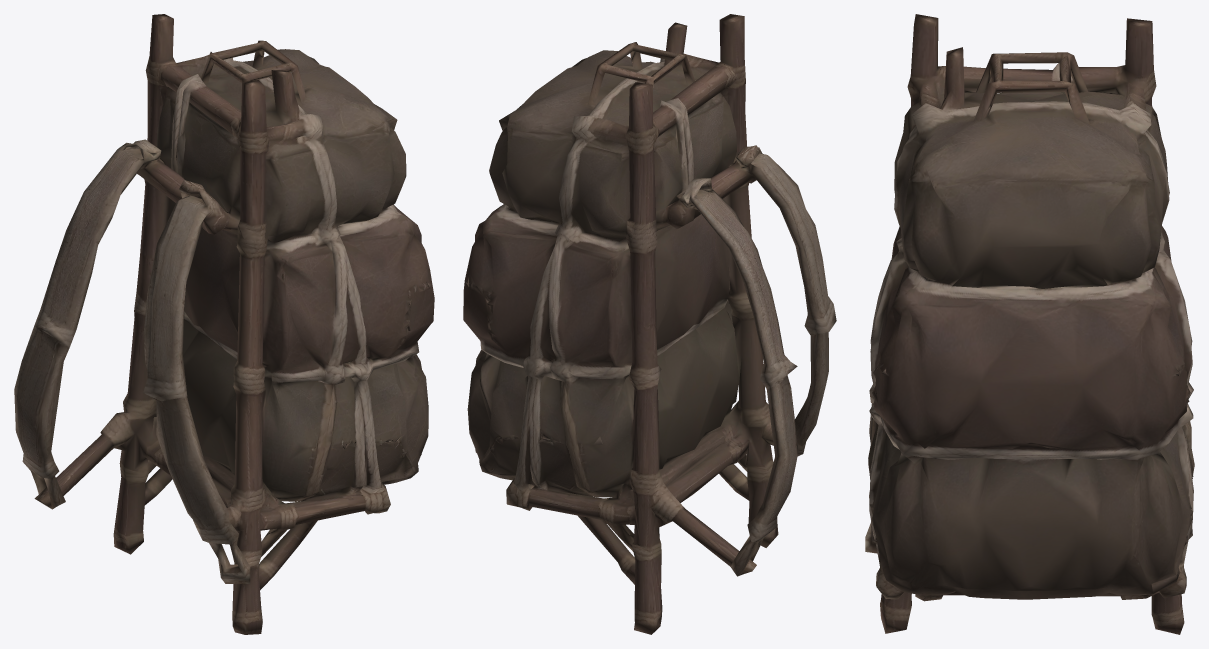
The model's file is botjim_tripo_web.glb.
The picture shows the model from 3 angles, left to right: view 1: azimuth 30°, elevation 25°; view 2: azimuth 150°, elevation 25°; view 3: azimuth 270°, elevation 25°; orthographic projection. The views are drawn at different scales.
Visible parts, largest first — view 1: tripo_node_89209860-6d4a-4c34-b540-9d82587a7a6b; view 2: tripo_node_89209860-6d4a-4c34-b540-9d82587a7a6b; view 3: tripo_node_89209860-6d4a-4c34-b540-9d82587a7a6b.
Boxes of the visible parts, <box> form: tripo_node_89209860-6d4a-4c34-b540-9d82587a7a6b: <box>14,14,434,634</box>; tripo_node_89209860-6d4a-4c34-b540-9d82587a7a6b: <box>463,14,836,634</box>; tripo_node_89209860-6d4a-4c34-b540-9d82587a7a6b: <box>865,14,1194,634</box>.
Size of the model in its own units: 0.6171 by 0.9804 by 0.4697.
1 material, 1 textured.
